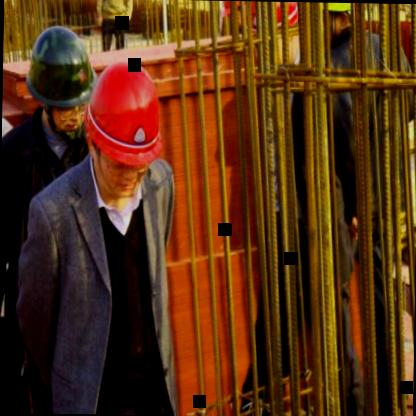helmet: (81, 56, 162, 198), (23, 21, 96, 134), (219, 0, 300, 74)
